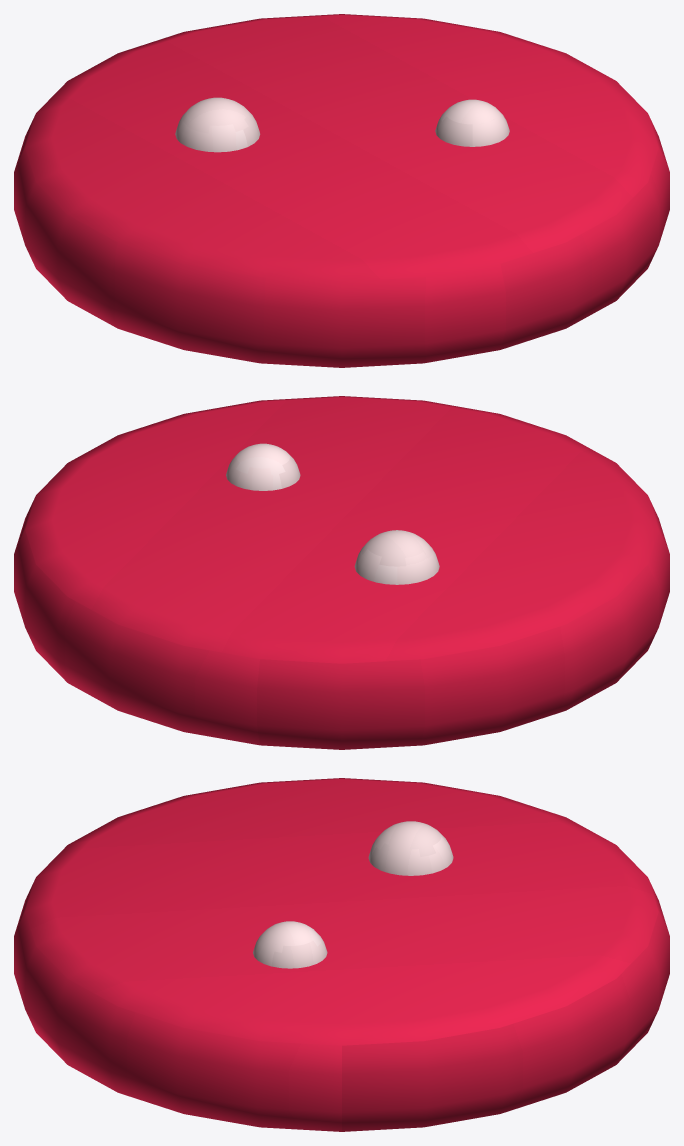
Rendered from meat-patty.glb.
3 views of the same model, one above another, from view 1: azimuth 30°, elevation 25°; view 2: azimuth 150°, elevation 25°; view 3: azimuth 270°, elevation 25° (orthographic).
Visible parts, largest first — view 1: PattyRawBody, PattySpeck1, PattySpeck2; view 2: PattyRawBody, PattySpeck1, PattySpeck2; view 3: PattyRawBody, PattySpeck1, PattySpeck2.
Boxes of the visible parts, x1,y1,x2,y2 form: PattyRawBody: (14, 14, 669, 367); PattySpeck1: (175, 97, 260, 152); PattySpeck2: (435, 99, 509, 146); PattyRawBody: (14, 396, 669, 749); PattySpeck1: (354, 530, 439, 584); PattySpeck2: (226, 443, 300, 490); PattyRawBody: (14, 778, 669, 1131); PattySpeck1: (368, 821, 453, 875); PattySpeck2: (253, 921, 327, 968).
Bounding box in the file's own units: 0.38 × 0.089 × 0.38.
2 materials, 2 textured.
